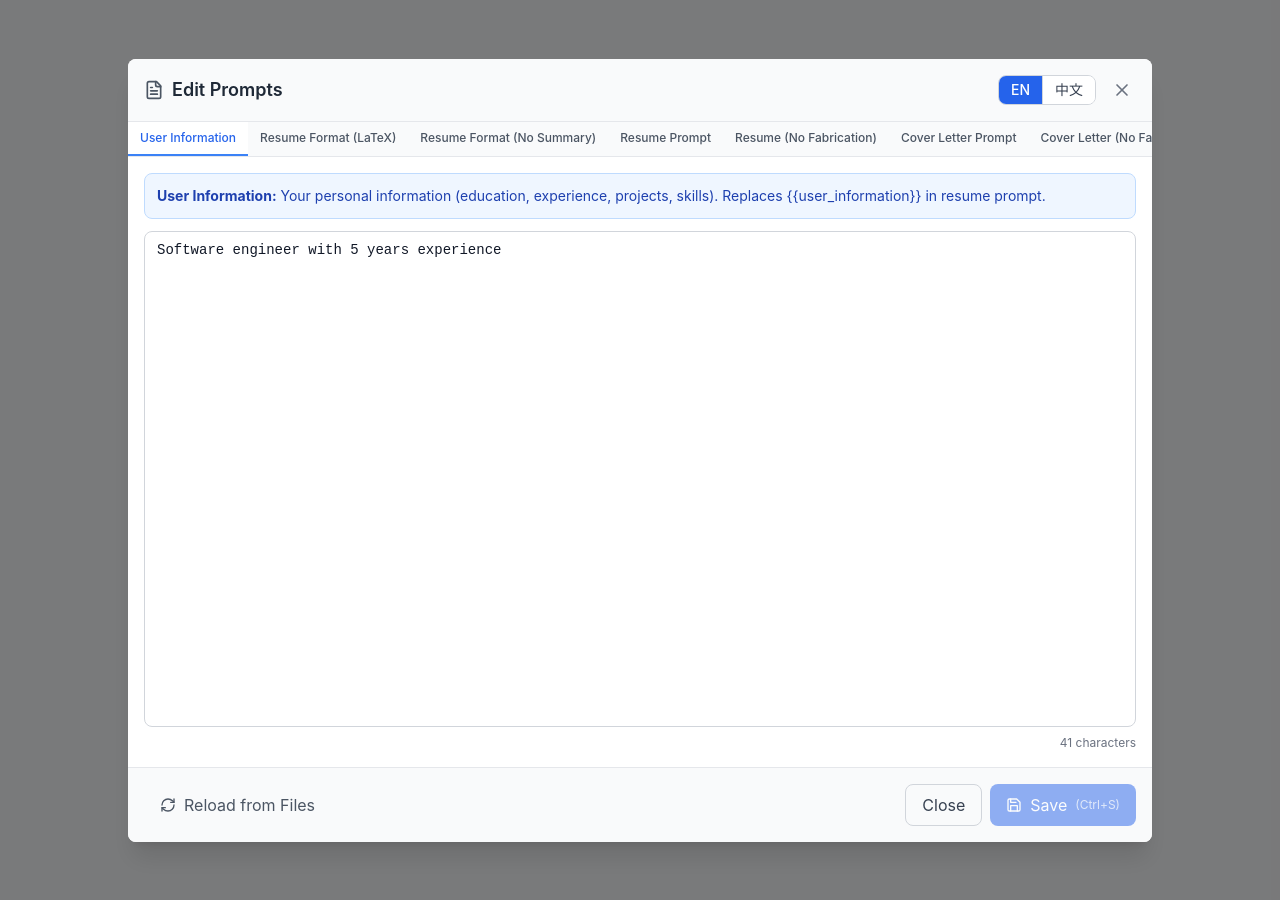
it: PromptsPanel › switches prompt content when clicking a different tab
This screenshot has width=1280, height=900.
Check: the text box is shown, box 144,230 -> 1136,726
// Click the "Resume Prompt" tab
Click the button "Resume Prompt": (666, 138) 608,122 -> 723,156
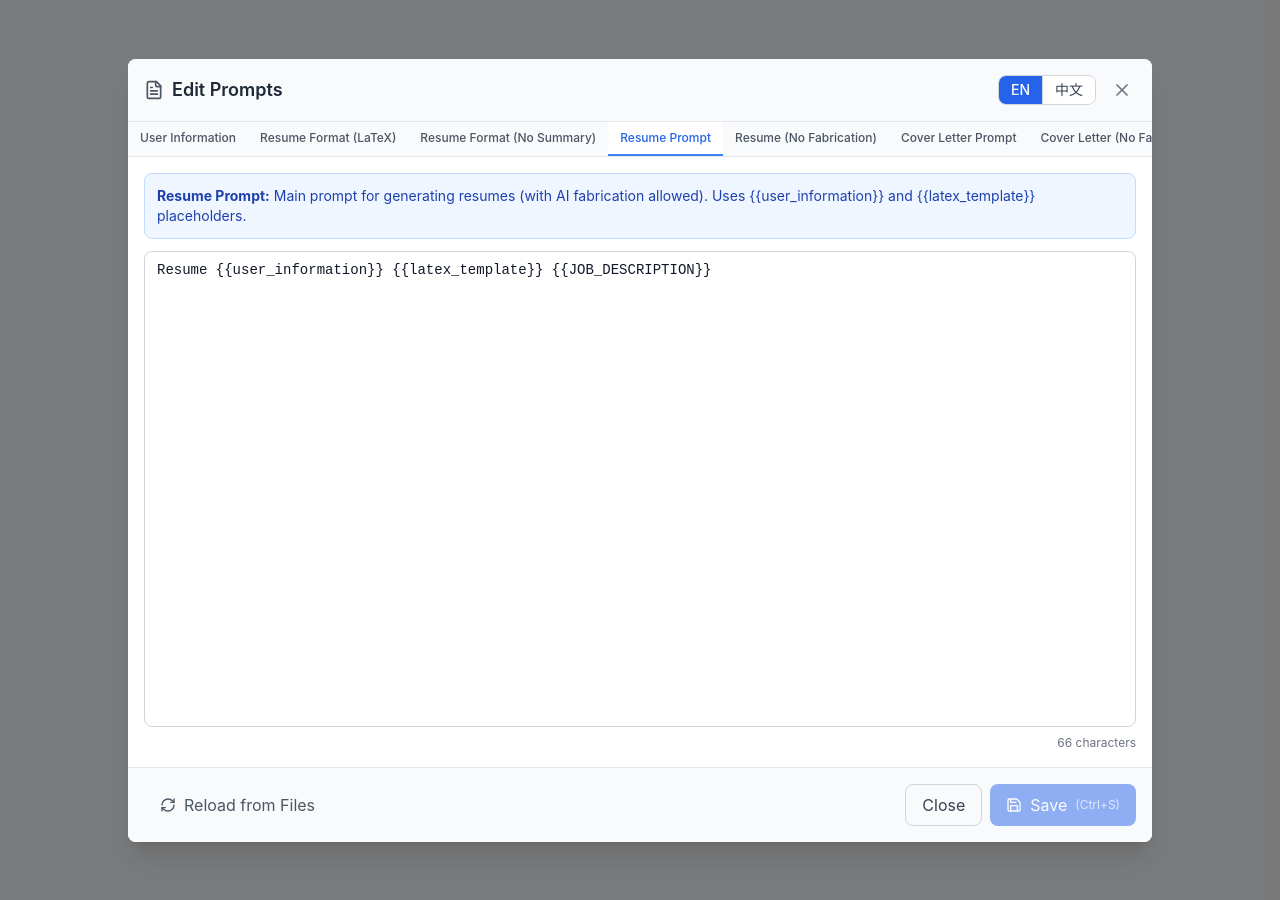
Check: the text box holds "Resume {{user_information}} {{latex_template}} {{JOB_DESCRIPTION}}", box 144,250 -> 1136,726
